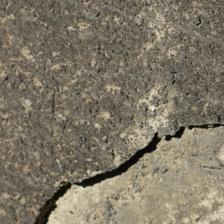Crack: (20, 61, 202, 161)
